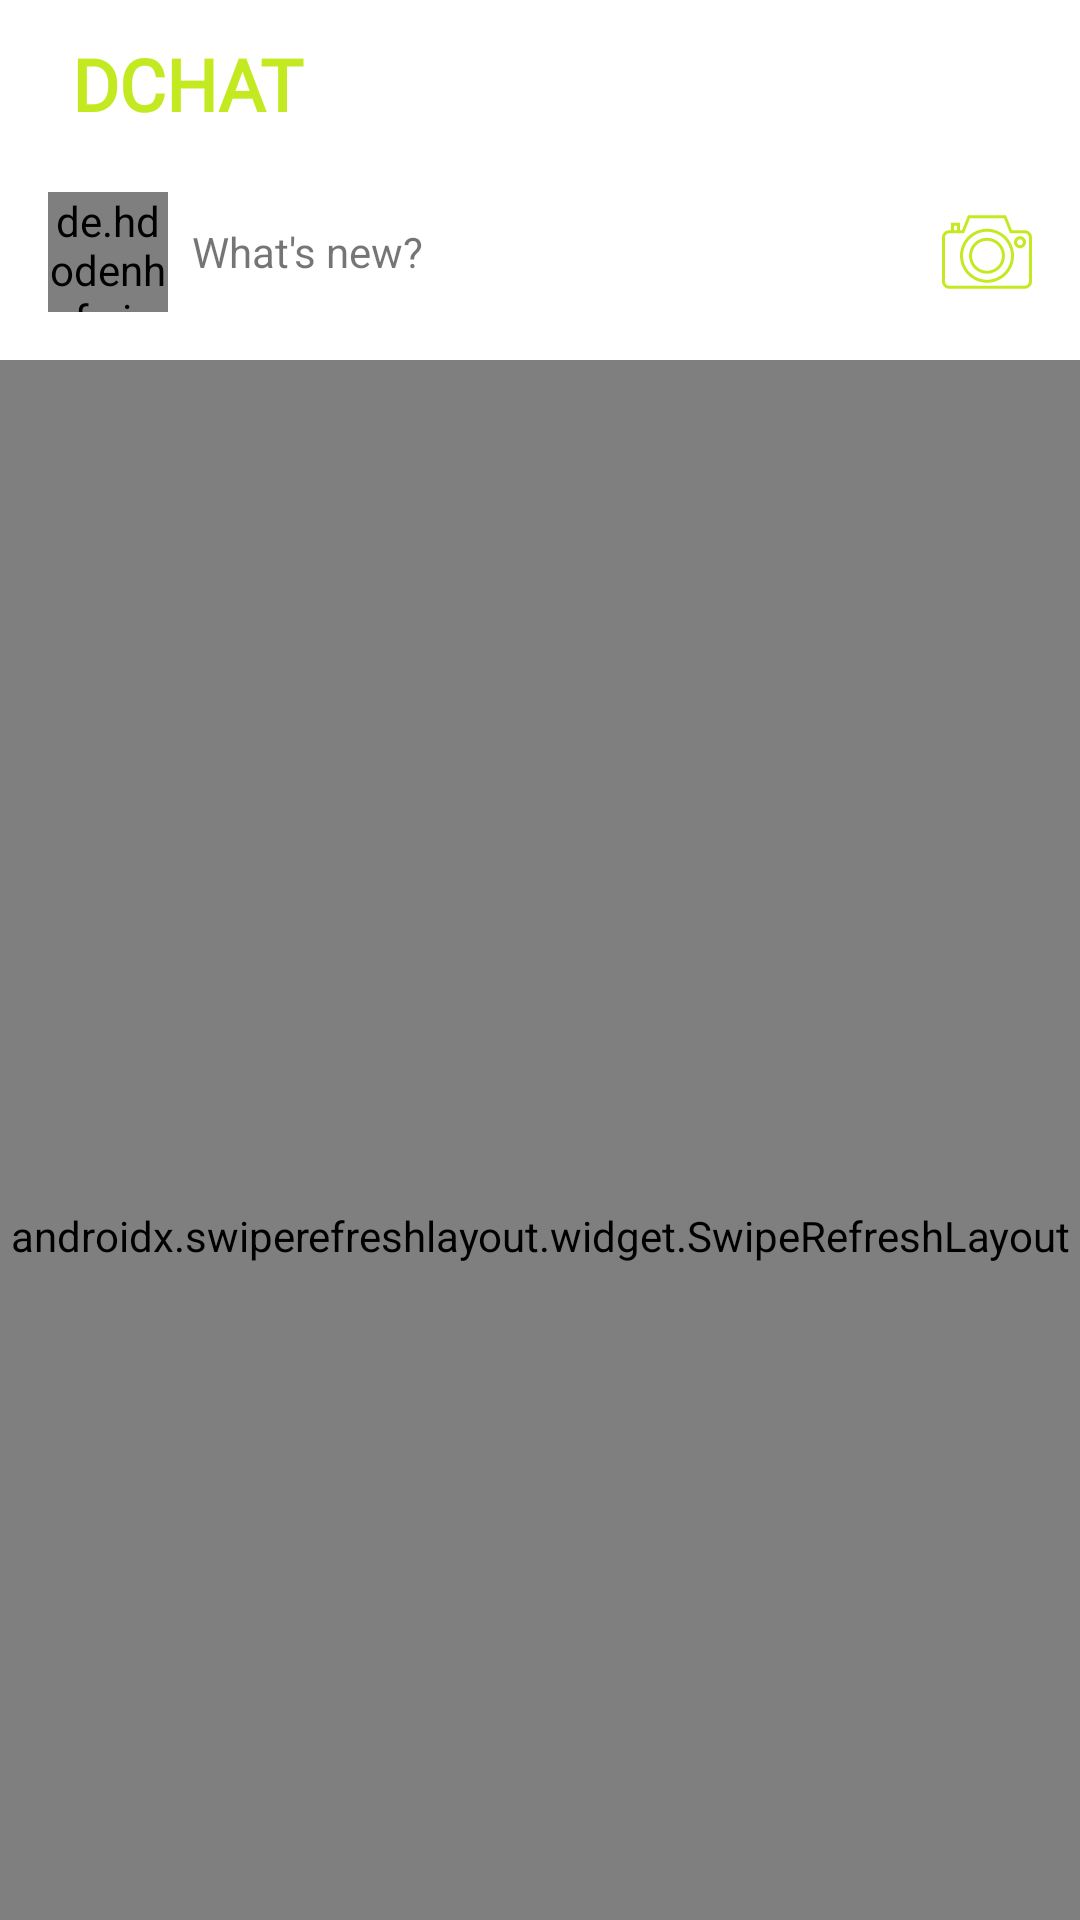

Icons on this 1080w x 1920h Android screen, each with the point to tap as (x=x, y=y):
photo camera: (x=987, y=252)
